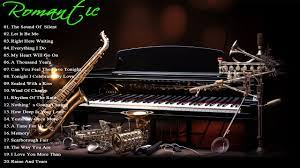Piano: (73, 65, 282, 130)
Saxophone: (6, 26, 117, 149)
